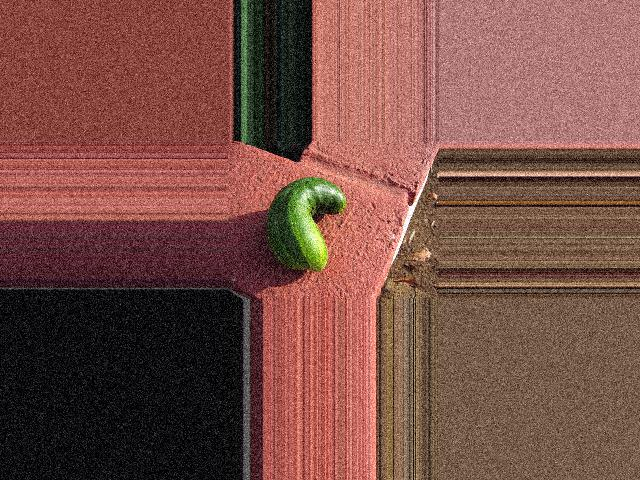cucumber: (267, 177, 347, 271)
